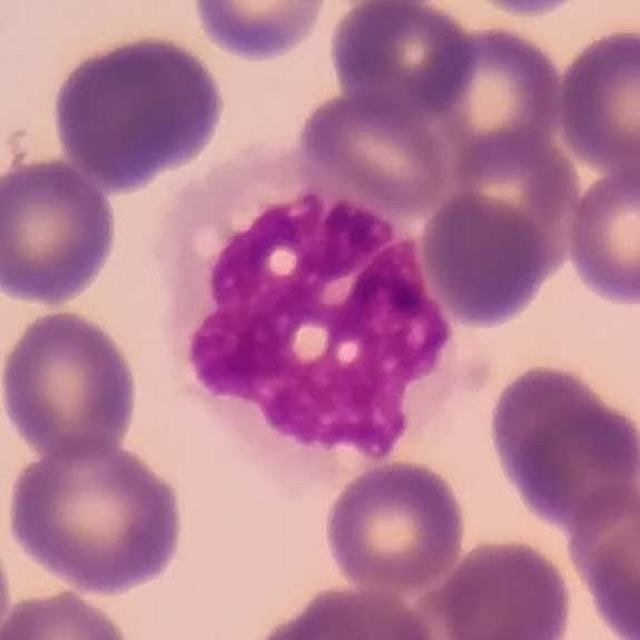Monocyte: (145, 151, 480, 481)
RBC: (2, 434, 189, 597), (48, 30, 229, 190), (484, 360, 640, 534), (0, 305, 144, 464), (425, 21, 569, 169), (292, 87, 453, 215), (320, 458, 470, 594), (446, 124, 582, 272), (416, 186, 553, 328), (0, 154, 122, 309), (325, 0, 481, 121), (423, 534, 578, 640), (553, 23, 640, 180), (562, 478, 640, 639), (248, 580, 446, 640), (562, 160, 640, 311), (188, 0, 335, 63), (6, 585, 148, 640), (453, 0, 598, 19), (0, 513, 16, 640)
